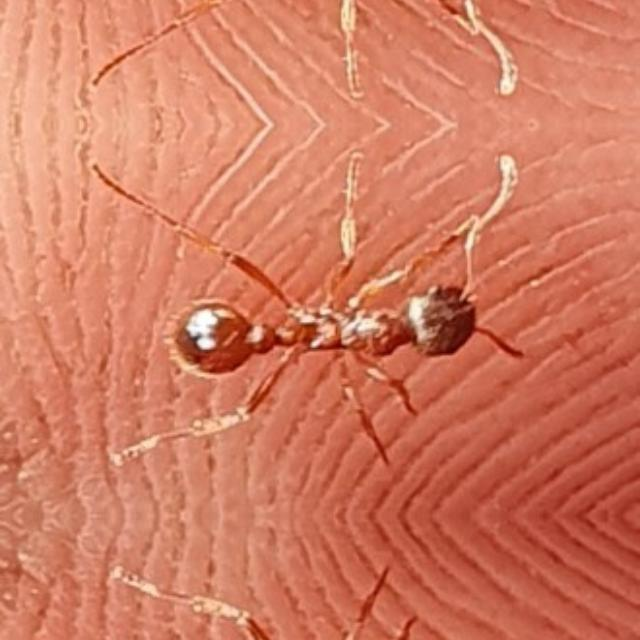Myrmica: (153, 198, 480, 428), (152, 0, 480, 50)
